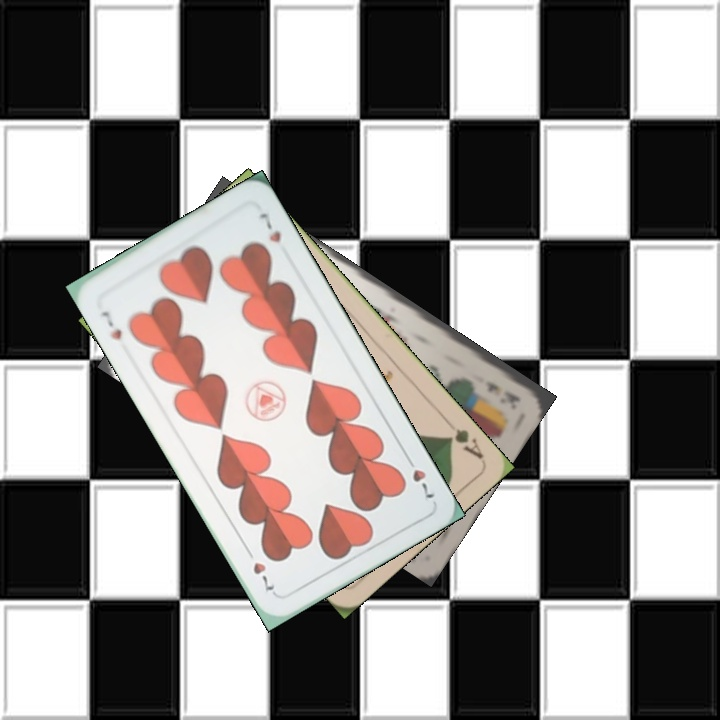EK: (482, 377, 523, 409)
GA: (440, 414, 486, 462)
H7: (400, 450, 438, 504), (97, 307, 125, 342)
